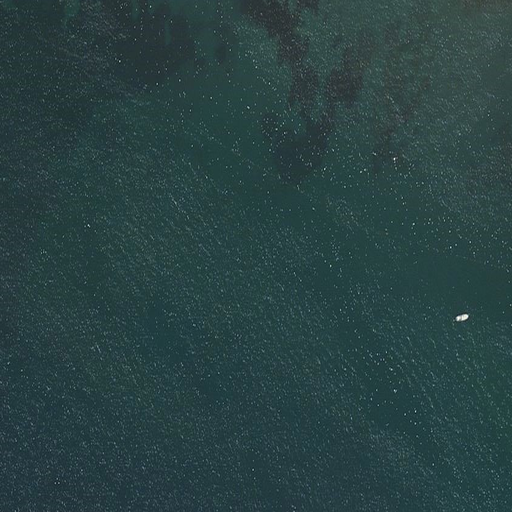ship: (452, 312, 470, 323)
